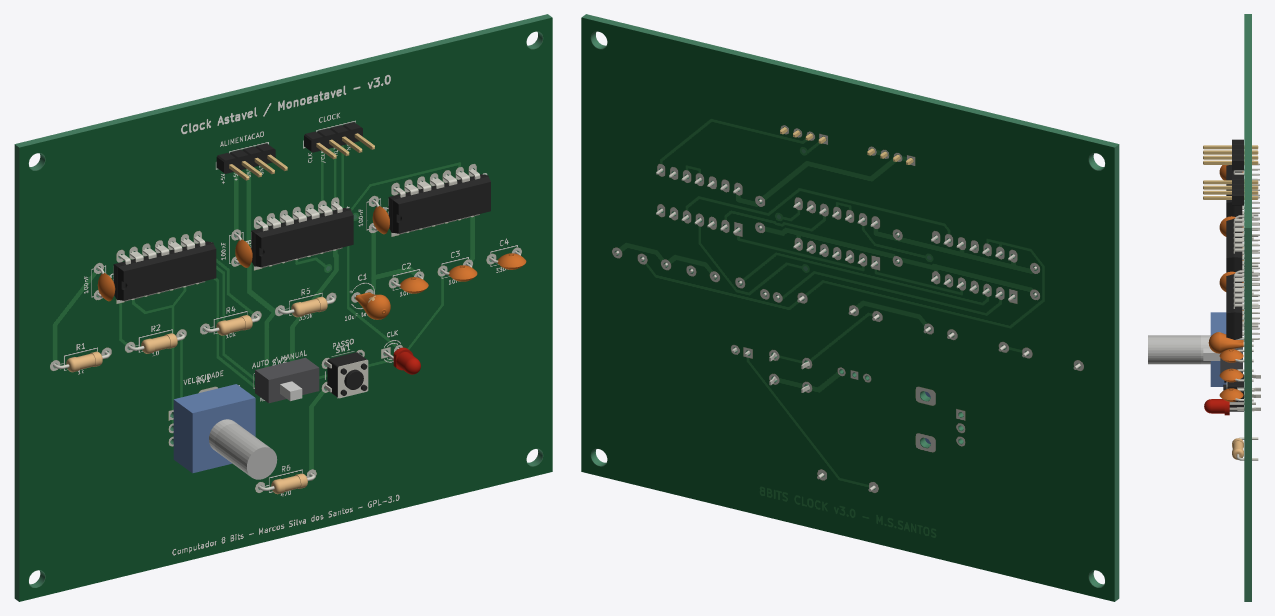
File: clock-astavel-monoestavel.glb
3 renders of one model, left to right at view 1: azimuth 30°, elevation 25°; view 2: azimuth 150°, elevation 25°; view 3: azimuth 270°, elevation 25°, orthographic. The views are drawn at different scales.
Parts seen in each view (by area): view 1: superficie_topo, =>[0:1:1:16], modelo_proprio_0, =>[0:1:1:3]_1, =>[0:1:1:3]_2_3acdd9, =>[0:1:1:3]_cd547c, modelo_proprio_2, modelo_proprio_3, =>[0:1:1:13]_6727c5, =>[0:1:1:9]_1_1af07e, =>[0:1:1:9]_ea06d8, =>[0:1:1:3]_1_ce9e34 (+3 smaller); view 2: superficie_fundo, =>[0:1:1:16]; view 3: =>[0:1:1:16], modelo_proprio_2, =>[0:1:1:3]_cd547c, =>[0:1:1:3]_7cd262, =>[0:1:1:9]_1, =>[0:1:1:3]_2_35c293, =>[0:1:1:9], modelo_proprio_0, =>[0:1:1:3]_2_3acdd9, =>[0:1:1:15]_5ea77a, =>[0:1:1:3]_1, =>[0:1:1:9]_1_1af07e (+12 smaller).
Boxes of the visible parts, left/top/right/bottom form: superficie_topo: left=19, top=17, right=552, bottom=601; =>[0:1:1:16]: left=14, top=14, right=551, bottom=601; modelo_proprio_0: left=173, top=384, right=255, bottom=473; =>[0:1:1:3]_1: left=113, top=241, right=216, bottom=300; =>[0:1:1:3]_2_3acdd9: left=251, top=208, right=353, bottom=267; =>[0:1:1:3]_cd547c: left=388, top=174, right=490, bottom=233; modelo_proprio_2: left=214, top=423, right=277, bottom=479; modelo_proprio_3: left=255, top=357, right=319, bottom=403; =>[0:1:1:13]_6727c5: left=327, top=352, right=367, bottom=397; =>[0:1:1:9]_1_1af07e: left=216, top=143, right=275, bottom=173; =>[0:1:1:9]_ea06d8: left=304, top=122, right=362, bottom=152; =>[0:1:1:3]_1_ce9e34: left=118, top=235, right=205, bottom=301; superficie_fundo: left=581, top=17, right=1114, bottom=601; =>[0:1:1:16]: left=582, top=14, right=1119, bottom=601; =>[0:1:1:16]: left=1244, top=14, right=1251, bottom=601; modelo_proprio_2: left=1148, top=335, right=1200, bottom=364; =>[0:1:1:3]_cd547c: left=1226, top=273, right=1242, bottom=339; =>[0:1:1:3]_7cd262: left=1233, top=273, right=1259, bottom=339; =>[0:1:1:9]_1: left=1203, top=145, right=1258, bottom=164; =>[0:1:1:3]_2_35c293: left=1233, top=218, right=1259, bottom=284; =>[0:1:1:9]: left=1203, top=180, right=1258, bottom=199; modelo_proprio_0: left=1210, top=312, right=1226, bottom=386; =>[0:1:1:3]_2_3acdd9: left=1226, top=218, right=1242, bottom=273; =>[0:1:1:15]_5ea77a: left=1208, top=332, right=1243, bottom=353; =>[0:1:1:3]_1: left=1226, top=165, right=1242, bottom=218; =>[0:1:1:9]_1_1af07e: left=1232, top=139, right=1243, bottom=170.
Size of the model in its own units: 0.1053 by 0.0858 by 0.0235.
8 materials, 2 textured.
